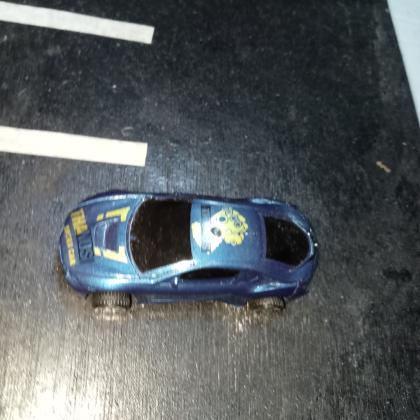Car: (56, 187, 319, 316)
